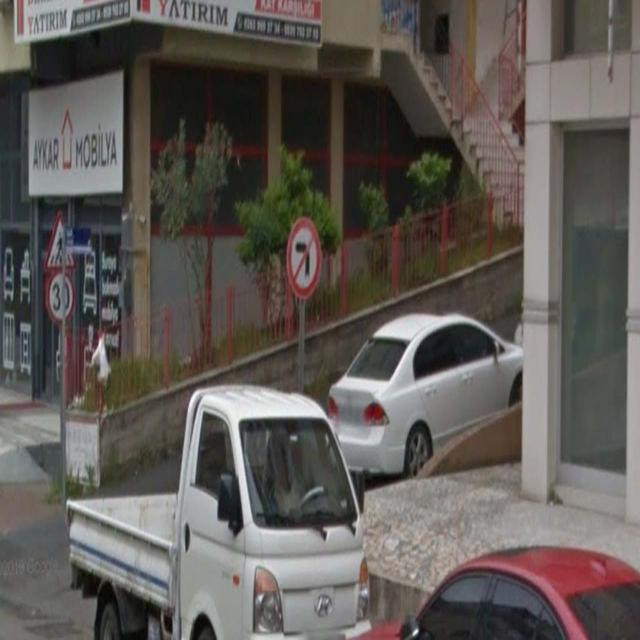30: (46, 272, 74, 324)
soladonulmez: (286, 219, 320, 299)
